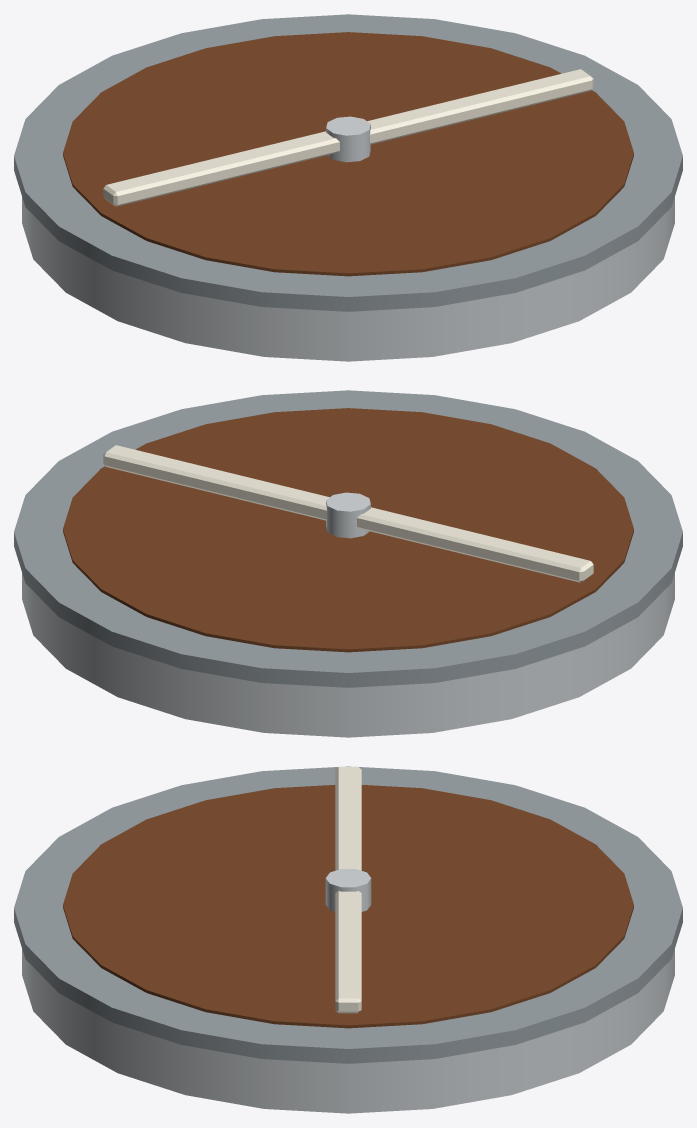
File: cooling_tray.glb
3 renders of one model, top to bottom at view 1: azimuth 30°, elevation 25°; view 2: azimuth 150°, elevation 25°; view 3: azimuth 270°, elevation 25°, orthographic.
Visible parts, largest first — view 1: TrayBody, Arm; view 2: TrayBody, Arm; view 3: TrayBody, Arm.
Boxes of the visible parts, x1,y1,x2,y2 form: TrayBody: [14, 14, 682, 361]; Arm: [103, 69, 593, 206]; TrayBody: [14, 390, 682, 737]; Arm: [103, 445, 593, 582]; TrayBody: [14, 766, 682, 1113]; Arm: [325, 766, 371, 1013].
Size of the model in its own units: 4.1 by 1.23 by 4.1.
